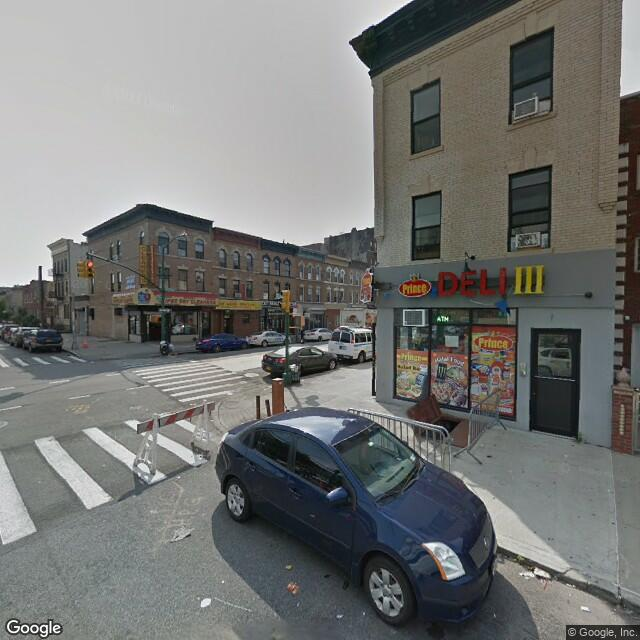litter: (172, 524, 194, 539), (534, 565, 550, 581), (519, 569, 540, 581), (290, 583, 300, 595), (579, 603, 590, 612), (175, 475, 185, 481), (286, 564, 290, 571), (336, 613, 342, 617), (489, 455, 491, 461)
